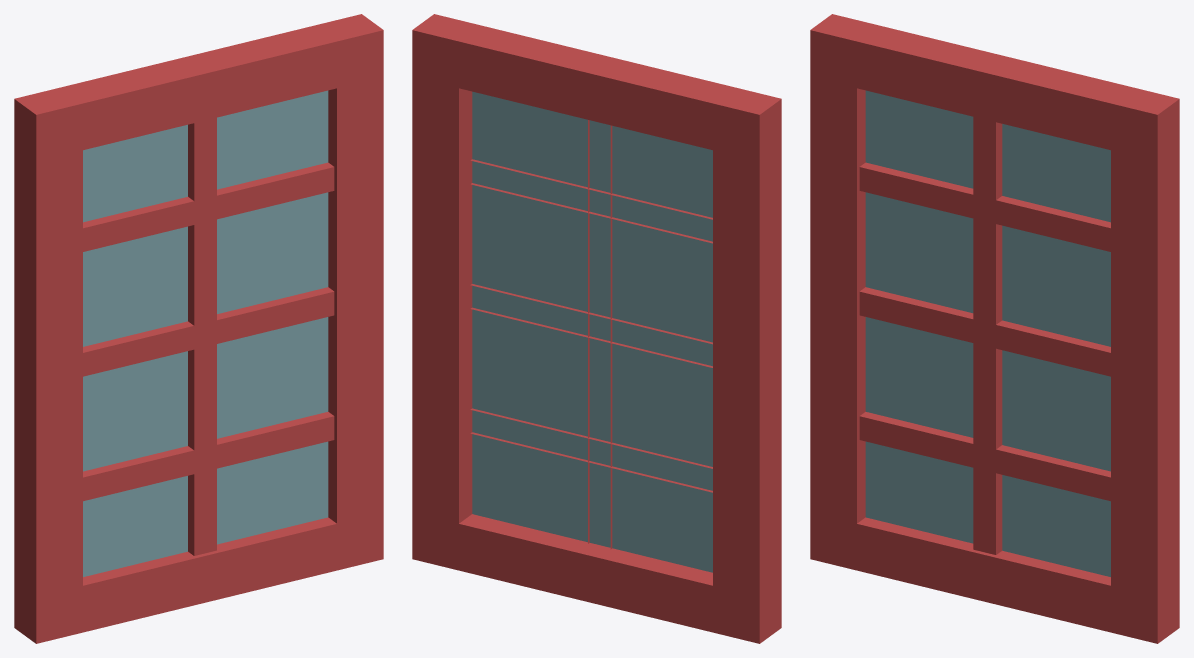
Rendered from House (Window over door 2).fbx.
3 views of the same model, side by side, from view 1: azimuth 30°, elevation 25°; view 2: azimuth 150°, elevation 25°; view 3: azimuth 330°, elevation 25° (orthographic).
Parts seen in each view (by area): view 1: House (Window over door) 2; view 2: House (Window over door) 2; view 3: House (Window over door) 2.
Boxes of the visible parts, bbox=[...] form: House (Window over door) 2: bbox=[14, 14, 383, 643]; House (Window over door) 2: bbox=[412, 14, 781, 643]; House (Window over door) 2: bbox=[810, 14, 1179, 643].
Bounding box in the file's own units: 420 × 611 × 46.12.
